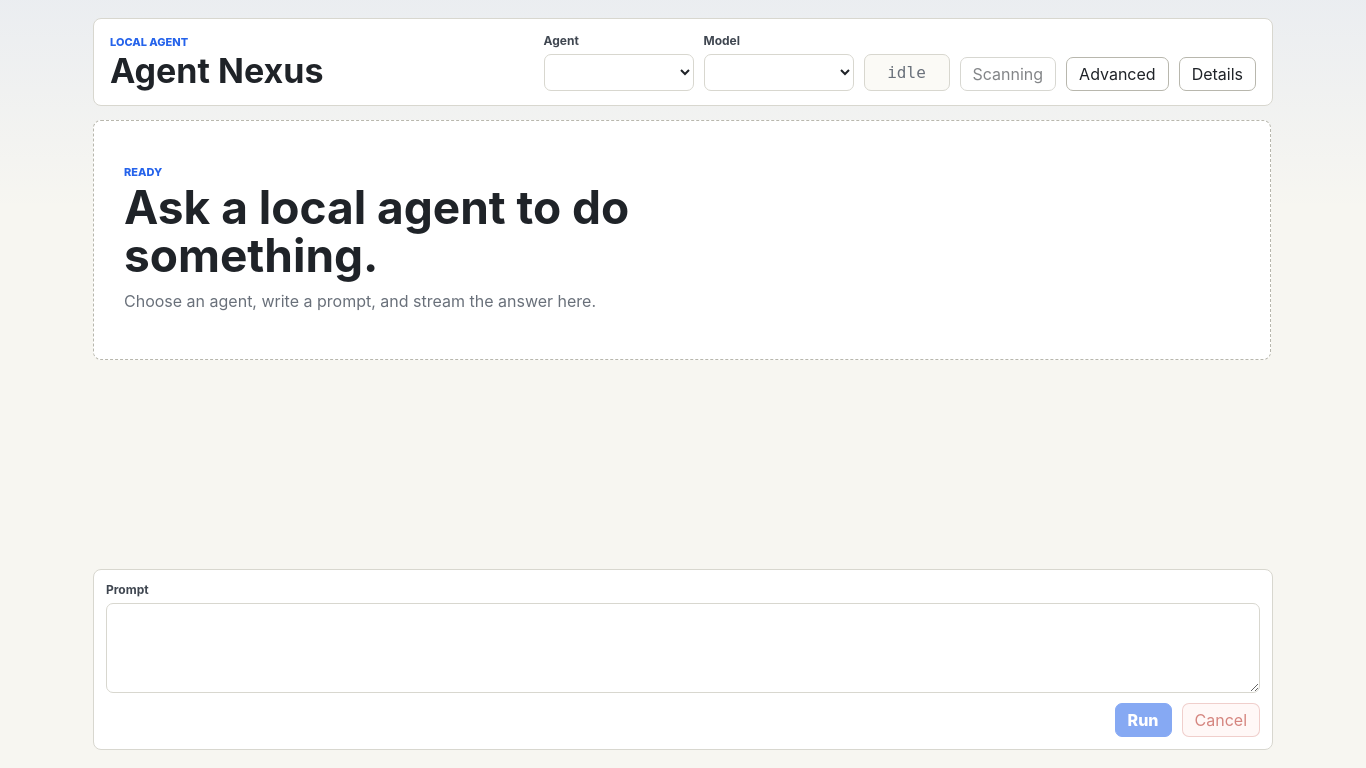
Test case: App › surfaces an inline error and a terminal placeholder when the agent fails without text output
Expected: the heading "Agent Nexus" is shown, [110,53,323,88]
Step 1. Type "Make it work" into the text box labelled "Prompt" → [683, 648], box [106,603,1260,693]
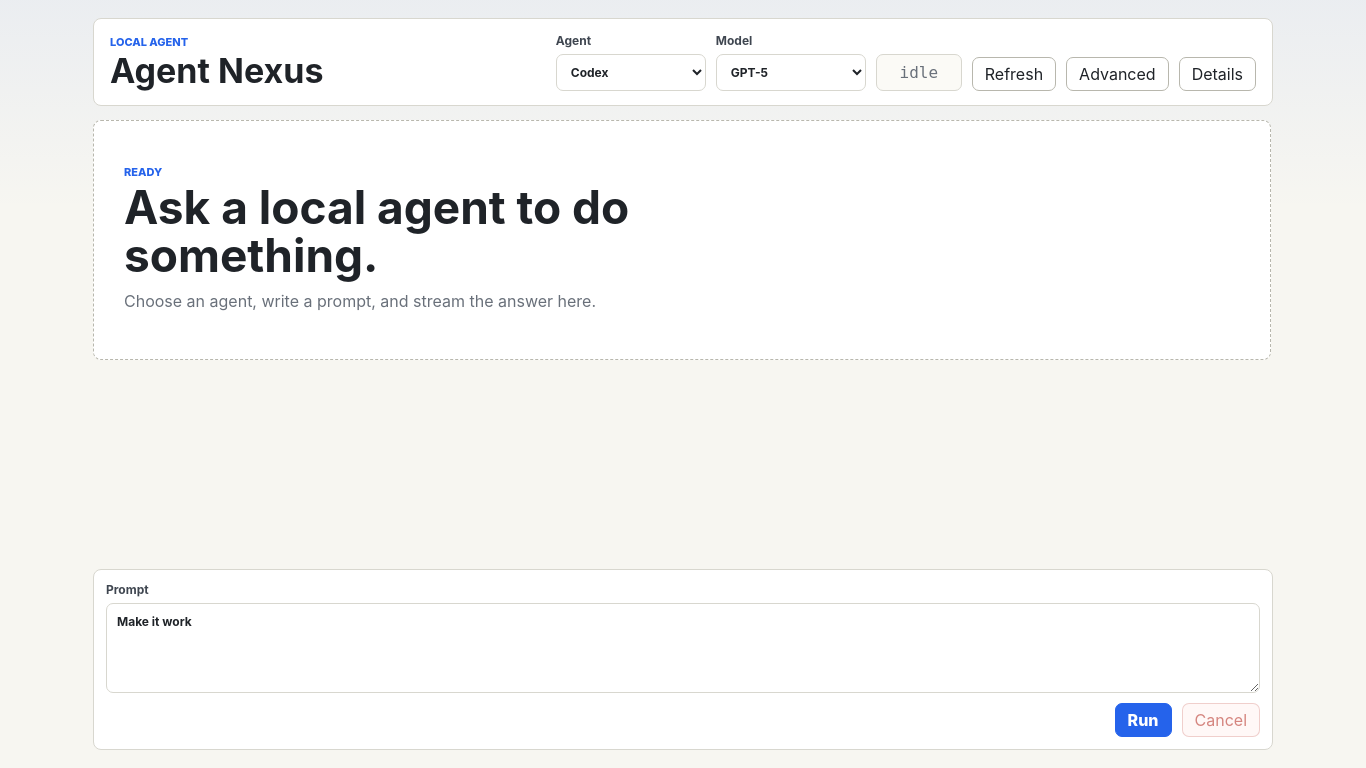
Step 2. Click the button "Run" → [1143, 720], box [1115,703,1172,737]
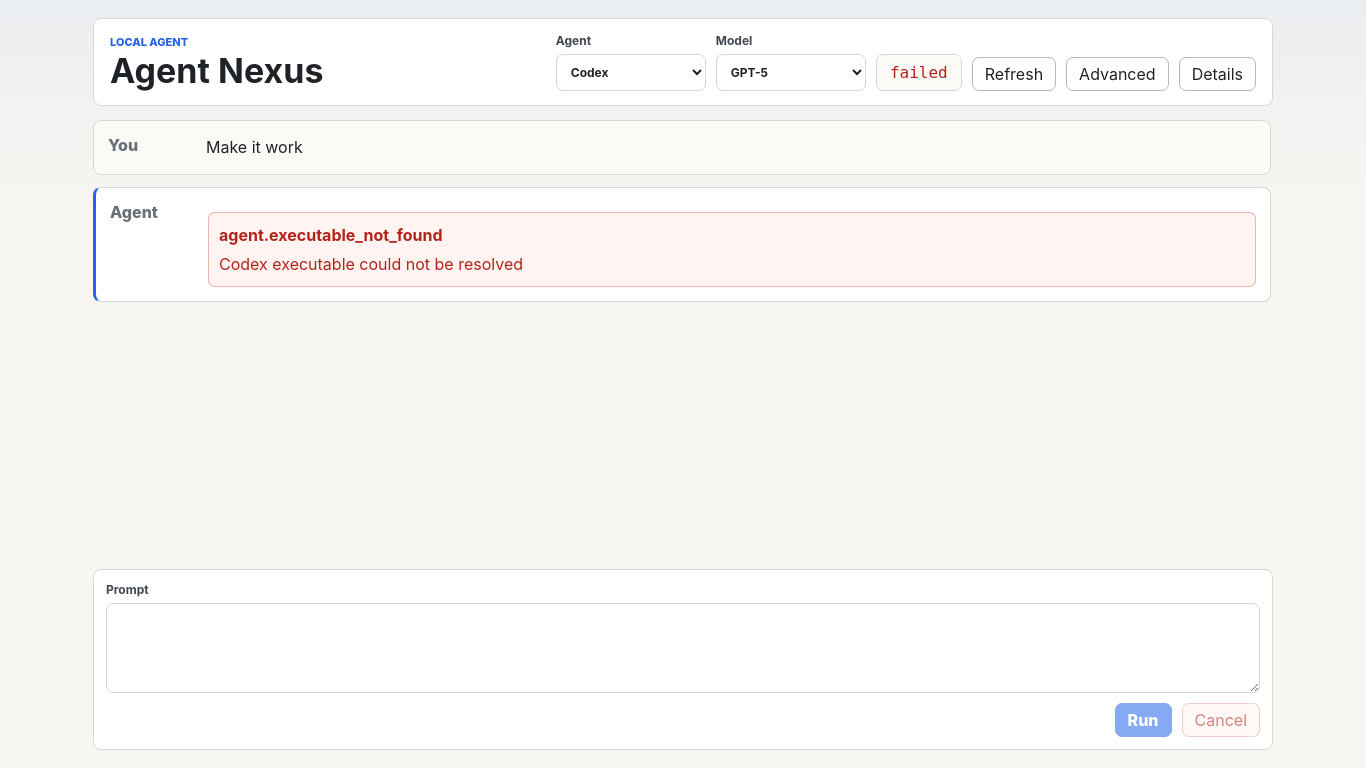
Result: the text "Codex executable could not be resolved" is shown at [219,254,523,274]
Result: the text "agent.executable_not_found" is shown at [219,225,443,245]
